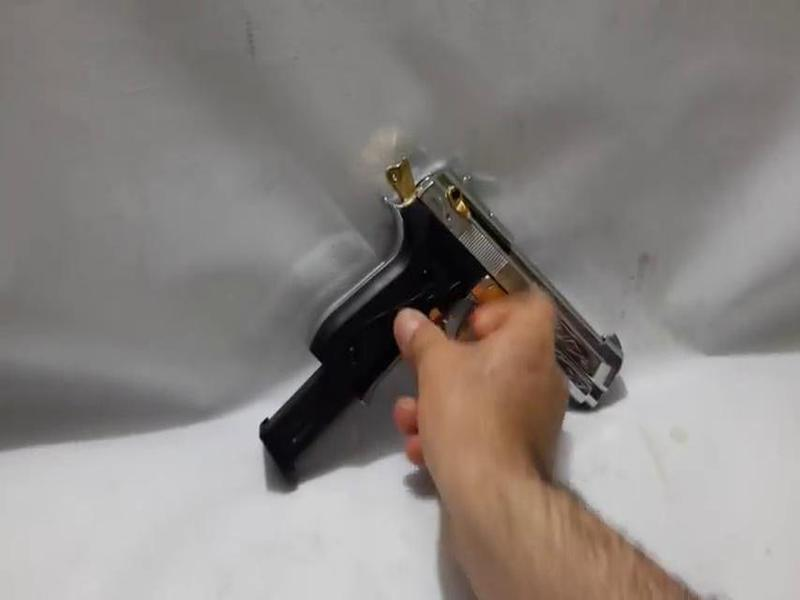Pistola: (314, 137, 635, 412)
